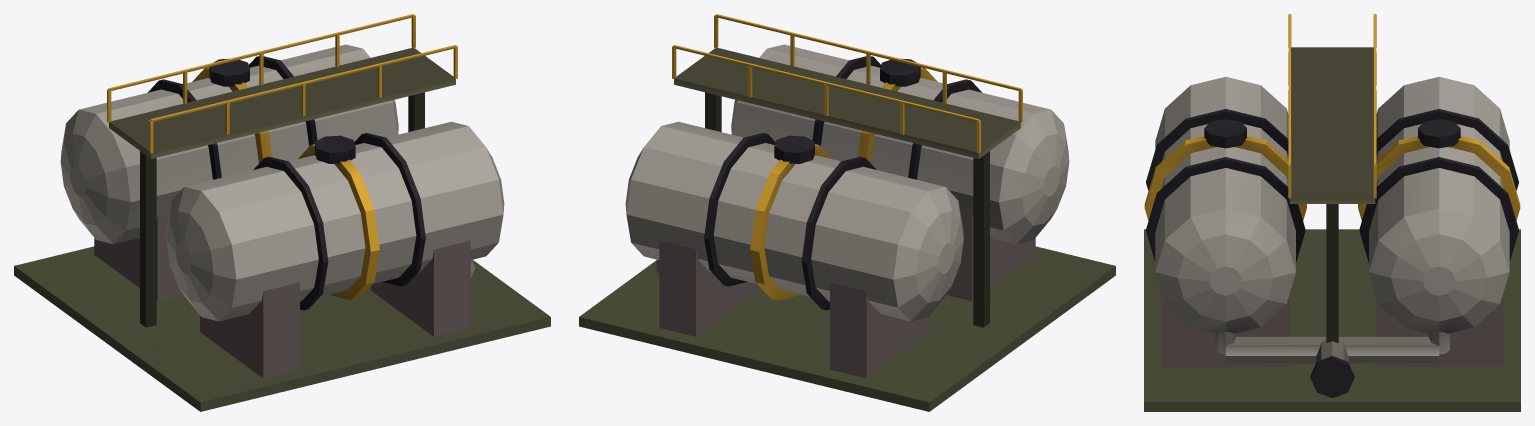
File: kit.dispersal-tank-bullet.lod1.glb
3 renders of one model, left to right at view 1: azimuth 30°, elevation 25°; view 2: azimuth 150°, elevation 25°; view 3: azimuth 270°, elevation 25°, orthographic.
Parts seen in each view (by area): view 1: body; view 2: body; view 3: body.
Boxes of the visible parts, x1,y1,x2,y2 form: body: [14, 14, 550, 411]; body: [579, 14, 1115, 411]; body: [1144, 14, 1520, 411].
Size of the model in its own units: 11.83 by 7.34 by 10.6.
